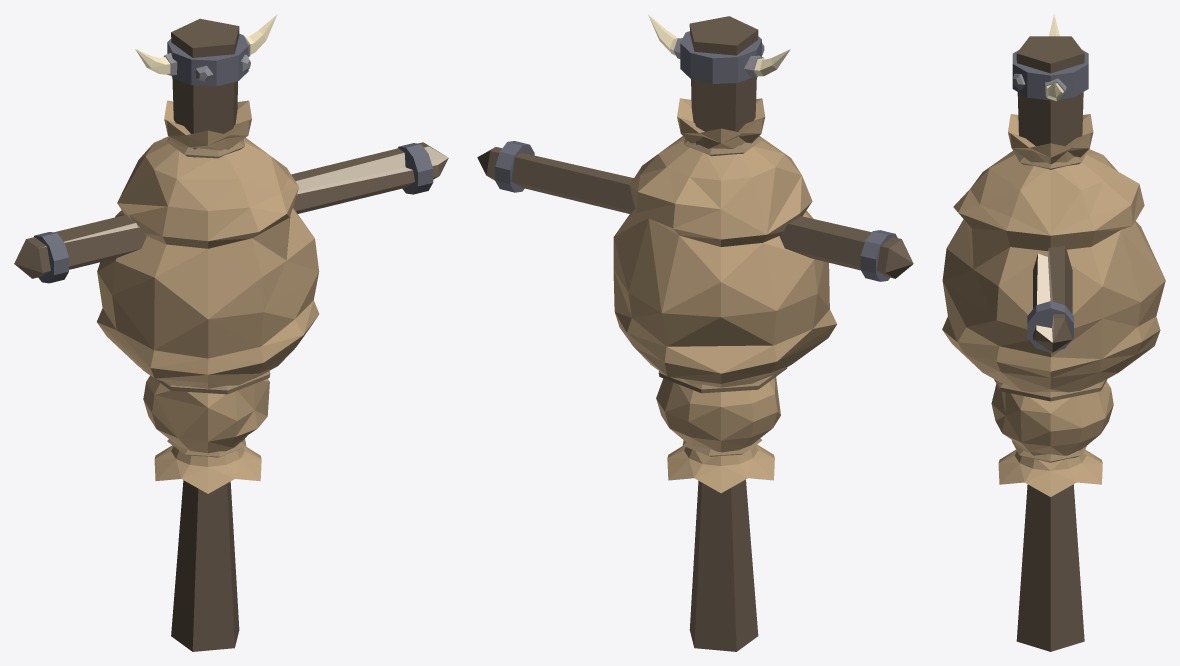
File: _TARGET_1.fbx
3 renders of one model, left to right at view 1: azimuth 30°, elevation 25°; view 2: azimuth 150°, elevation 25°; view 3: azimuth 270°, elevation 25°, orthographic. The views are drawn at different scales.
Parts seen in each view (by area): view 1: TARGET_1; view 2: TARGET_1; view 3: TARGET_1.
Part boxes in pixels (<box>): TARGET_1: <box>14,14,448,651</box>; TARGET_1: <box>477,14,913,651</box>; TARGET_1: <box>942,14,1165,651</box>.
Size of the model in its own units: 199 by 265 by 91.06.
